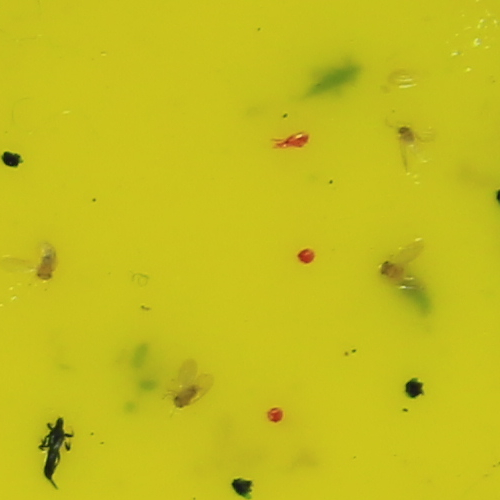Platyobria: (170, 374, 211, 409), (31, 252, 57, 288), (378, 257, 405, 283)
